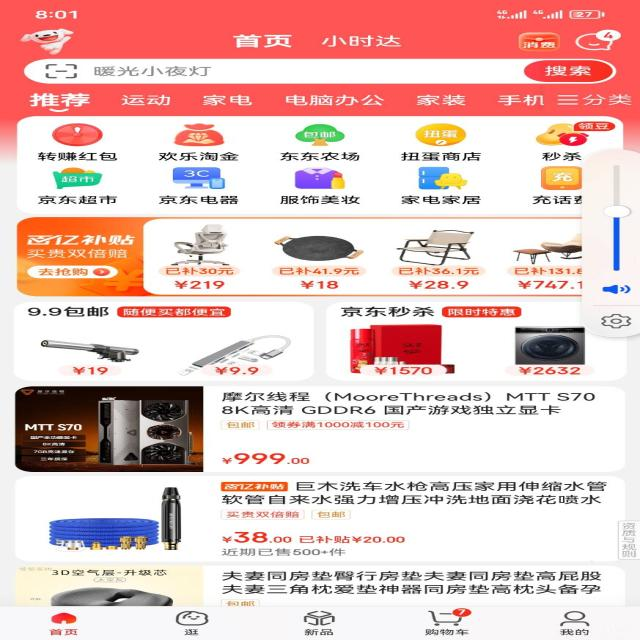Icon: (525, 60, 613, 82), (415, 124, 467, 146), (536, 124, 588, 146), (173, 124, 223, 146), (52, 124, 102, 146), (173, 168, 225, 189), (294, 168, 346, 189), (297, 124, 344, 146), (54, 168, 102, 189), (542, 166, 583, 190), (421, 168, 467, 189), (575, 30, 621, 50), (429, 608, 473, 626), (561, 610, 591, 636), (520, 32, 561, 51), (176, 610, 209, 626), (302, 610, 335, 626), (44, 64, 77, 79), (49, 612, 77, 624)
SearchBar: (25, 59, 613, 84)
